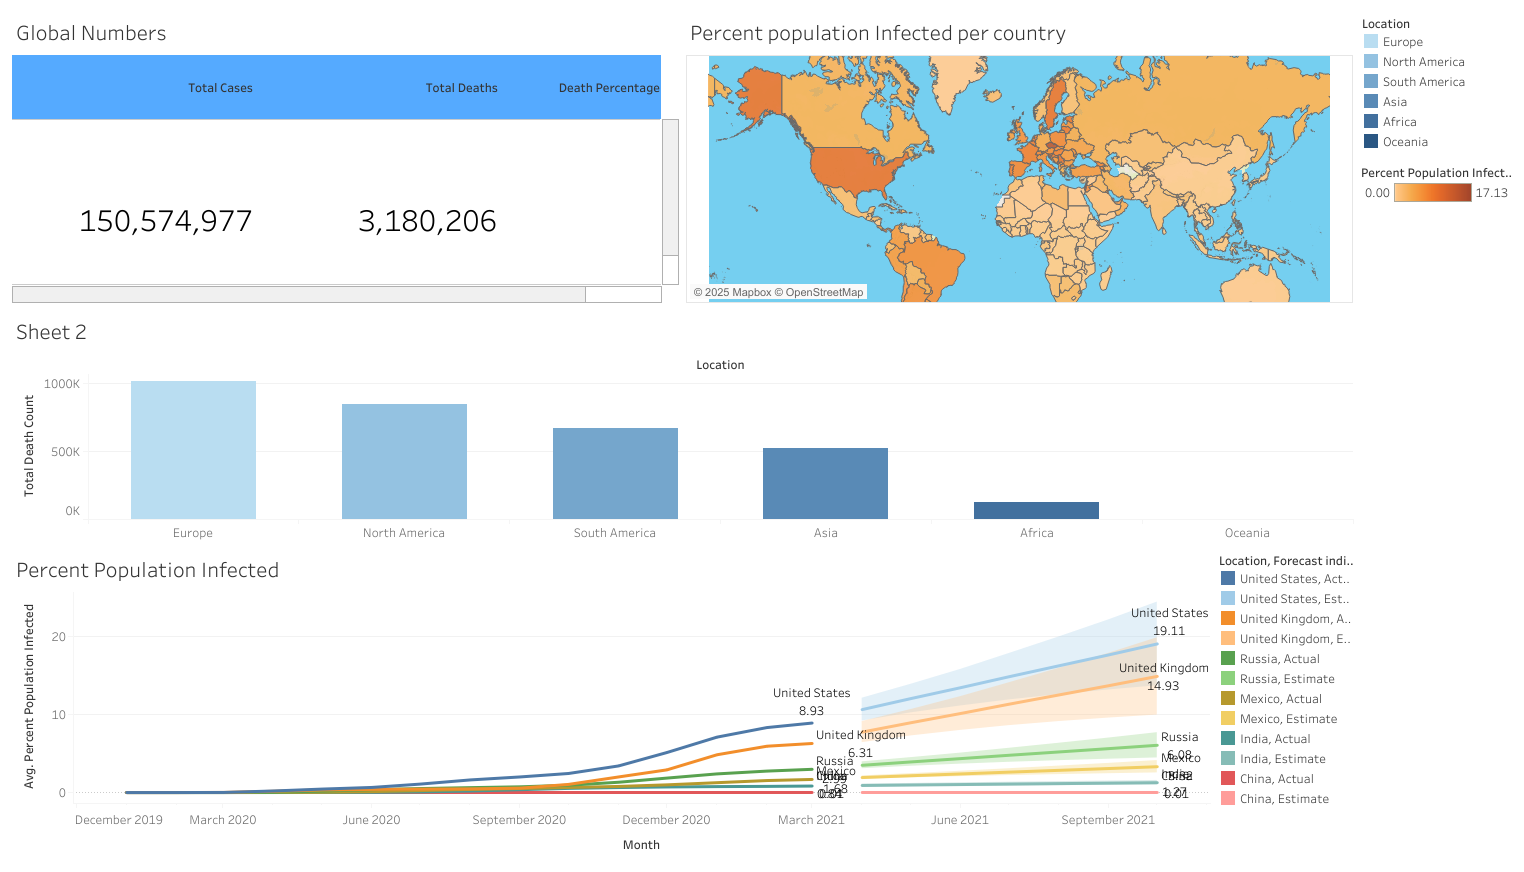

The dashboard page shown, as its layout file describes it:
{"tool":"tableau","page":{"name":"Dashboard 1","canvas":[1000,1000],"units":"permille","ordinal":0},"visuals":[{"type":"worksheet","title":"Sheet 1","mark":"Automatic","box":[4.7,8.2,448.5,343.2]},{"type":"worksheet","title":"Sheet 3","mark":"Automatic","box":[453.2,8.2,448.5,343.2]},{"type":"legend","title":"Sheet 2","param":"[federated.0n4pba70u26ra91d6fwdt0bpbrqm].[none:location:nk]","box":[901.7,8.2,93.6,149.6]},{"type":"legend","title":"Sheet 3","param":"[federated.0y4e96p1gpseje1c4ayux0fmn8u8].[sum:PercentPopulationInfected:qk]","box":[901.7,157.8,93.6,66.6]},{"type":"worksheet","title":"Sheet 2","mark":"Automatic","rows":["TotalDeathCount"],"cols":["location"],"box":[4.7,351.4,897,272.6]},{"type":"worksheet","title":"Sheet 4","mark":"Automatic","rows":["PercentPopulationInfected"],"cols":["date"],"box":[4.7,624,802.2,367.8]},{"type":"legend","title":"Sheet 4","param":"[federated.0l8db2610uy8pf1bs6h5u18ttz77].[none:Location:nk]\n[federated.0l8db2610","box":[806.9,624,94.8,367.8]}]}

Visuals, with their boxes on the dashboard's canvas, which has no fixed pixel size, in thousandths of its width and height (x1, y1, x2, y2). These are canvas units, not pixel positions in the 1524x872 screenshot, which may show the page scaled, cropped or inside an application window:
"Sheet 1" worksheet: [x1=5, y1=8, x2=453, y2=351]
"Sheet 3" worksheet: [x1=453, y1=8, x2=902, y2=351]
"Sheet 2" legend: [x1=902, y1=8, x2=995, y2=158]
"Sheet 3" legend: [x1=902, y1=158, x2=995, y2=224]
"Sheet 2" worksheet: [x1=5, y1=351, x2=902, y2=624]
"Sheet 4" worksheet: [x1=5, y1=624, x2=807, y2=992]
"Sheet 4" legend: [x1=807, y1=624, x2=902, y2=992]
